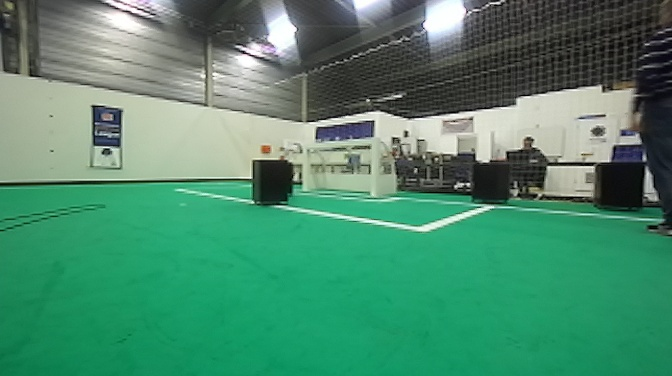goalpost: (295, 147, 312, 194), (369, 139, 379, 201)
human: (638, 5, 672, 243)
